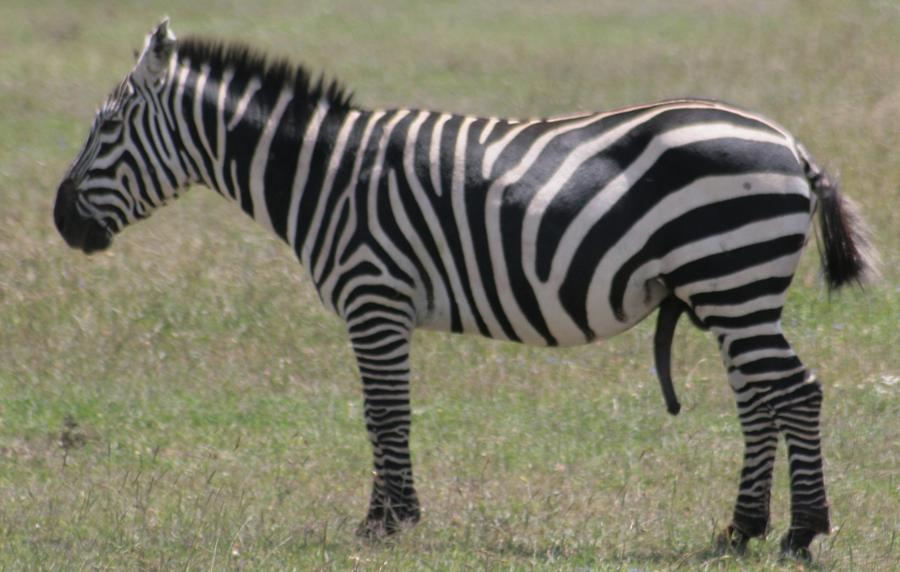zebra_plains: (307, 92, 772, 350)
